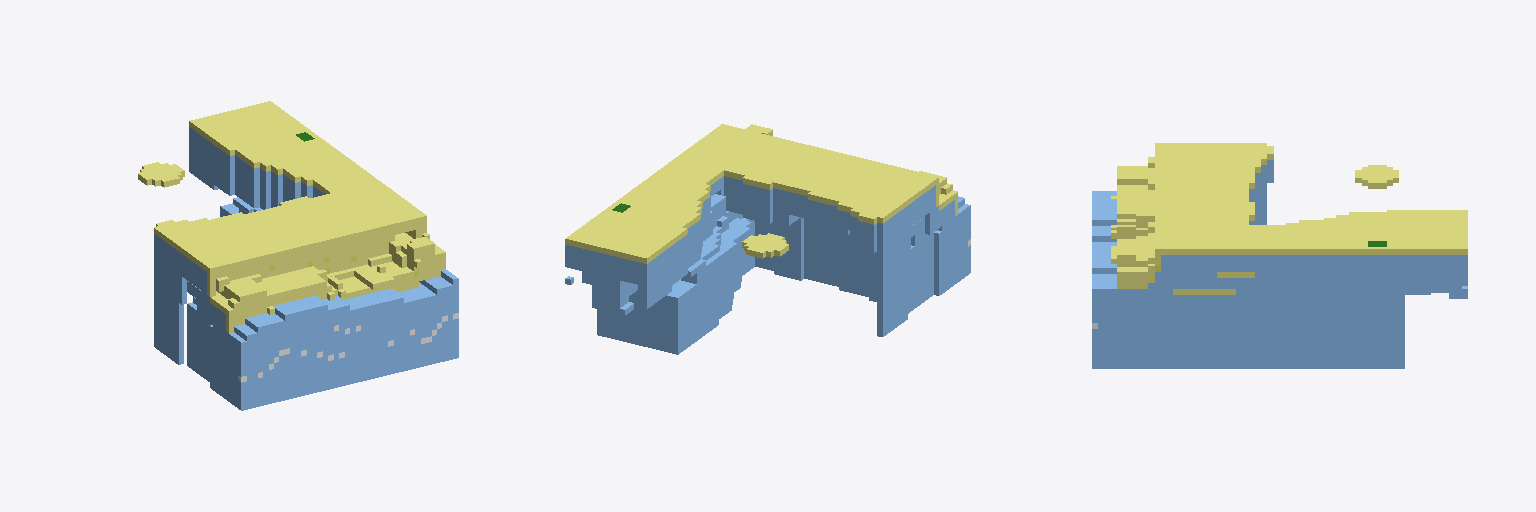
3 renders of one model, left to right at view 1: azimuth 30°, elevation 25°; view 2: azimuth 150°, elevation 25°; view 3: azimuth 270°, elevation 25°, orthographic.
Visible parts, largest first — view 1: object 1; view 2: object 1; view 3: object 1.
Part boxes in pixels (bbox=[...]): object 1: bbox=[138, 101, 458, 410]; object 1: bbox=[565, 124, 970, 354]; object 1: bbox=[1092, 143, 1467, 368].
Size of the model in its own units: 4 by 2.1 by 6.
1 materials, 1 textured.